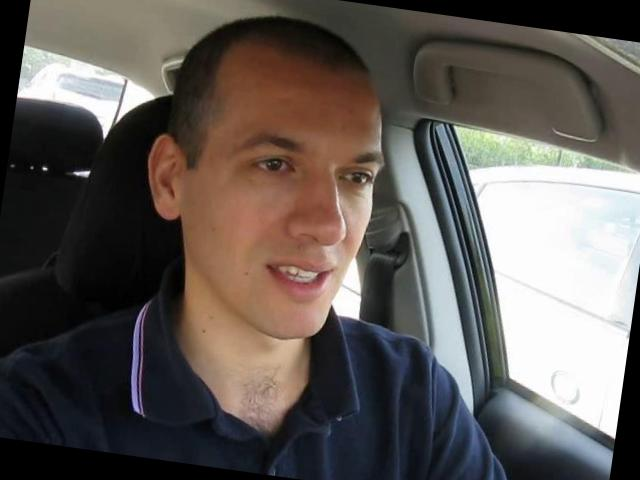eye_open: (244, 148, 302, 184), (338, 164, 374, 192)
face: (183, 104, 391, 355)
